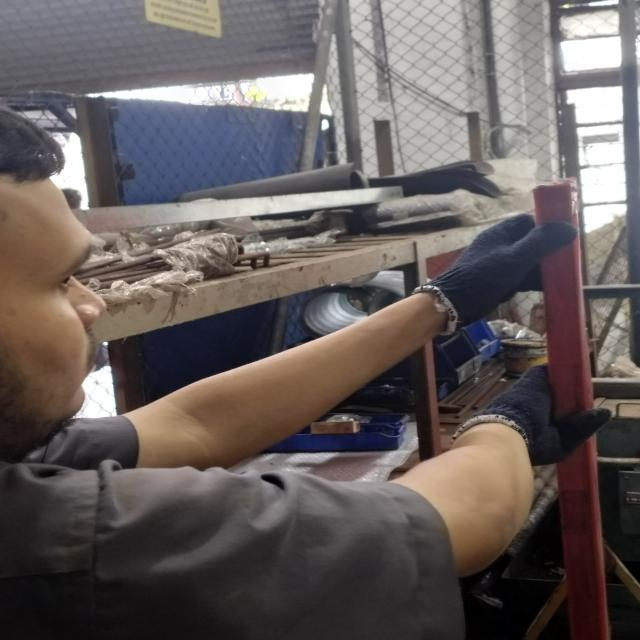Gloves-Detection: (425, 240, 543, 322), (496, 379, 588, 442)
